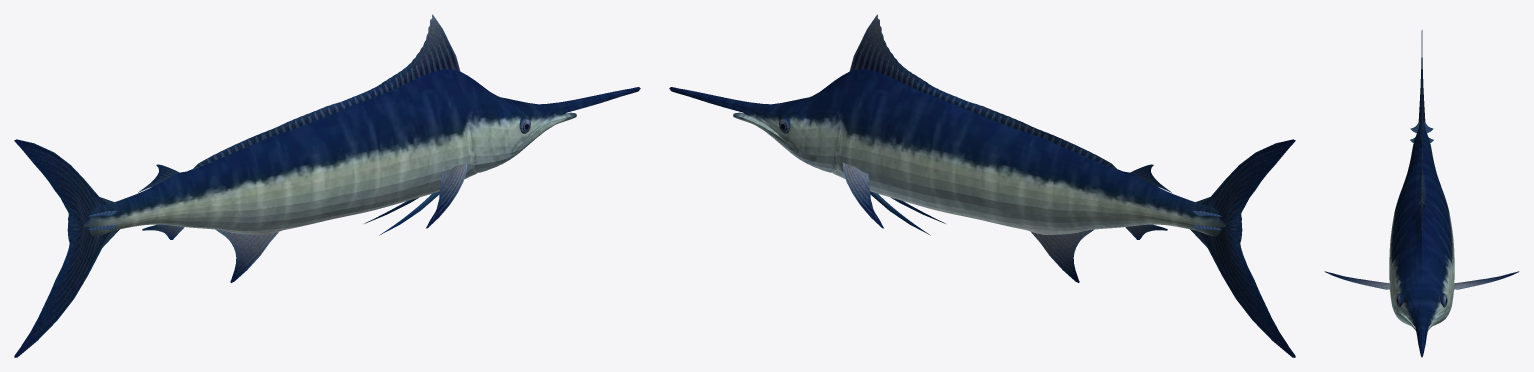
The model's file is marlin.glb.
The picture shows the model from 3 angles, left to right: view 1: azimuth 30°, elevation 25°; view 2: azimuth 150°, elevation 25°; view 3: azimuth 270°, elevation 25°; orthographic projection. The views are drawn at different scales.
Visible parts, largest first — view 1: marlin; view 2: marlin; view 3: marlin.
Part boxes in pixels (box(x1,y1,x2,y2)): marlin: box(14, 14, 640, 357); marlin: box(669, 14, 1295, 357); marlin: box(1324, 30, 1519, 357).
Bounding box in the file's own units: 1 × 0.3693 × 0.3199.
Materials: 1 (1 with a texture image).
